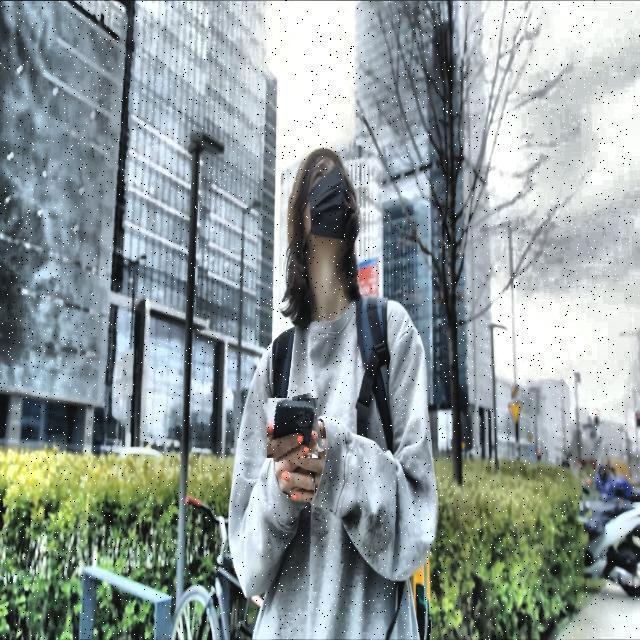Phone: (264, 396, 321, 460)
